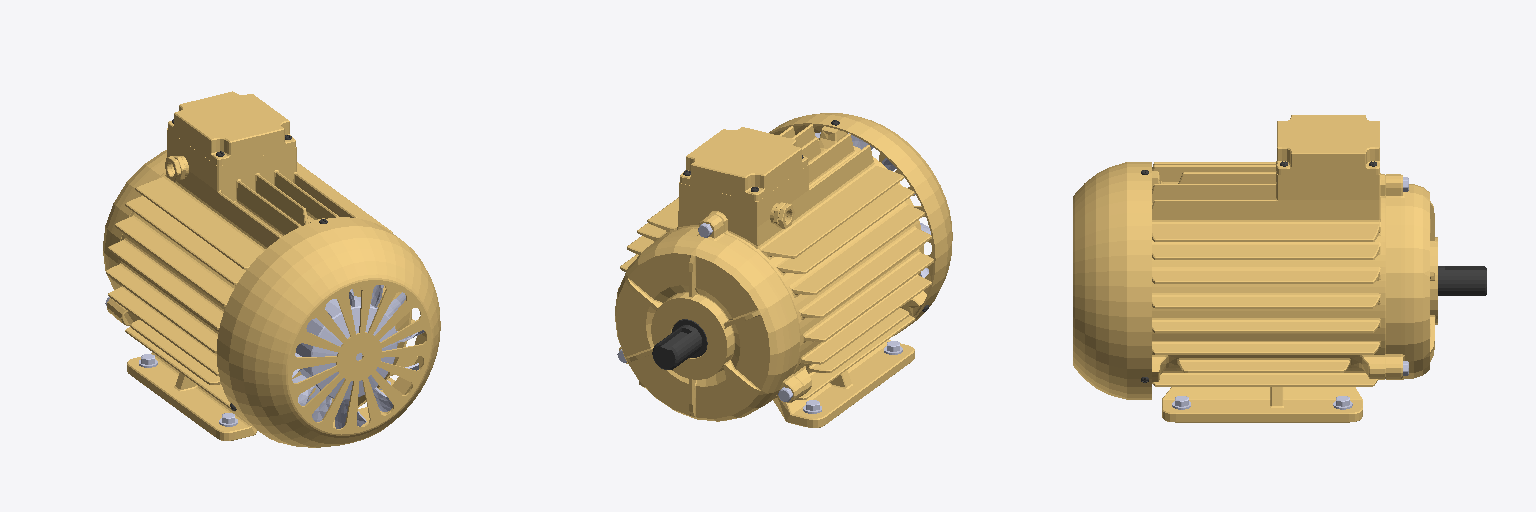
File: motor.obj
3 views of the same model, side by side, from view 1: azimuth 30°, elevation 25°; view 2: azimuth 150°, elevation 25°; view 3: azimuth 270°, elevation 25° (orthographic).
Visible parts, largest first — view 1: motor; view 2: motor; view 3: motor.
Part boxes in pixels (bbox=[...]): motor: bbox=[103, 91, 440, 447]; motor: bbox=[615, 113, 952, 427]; motor: bbox=[1073, 115, 1486, 422].
Size of the model in its own units: 88.58 by 99.39 by 153.